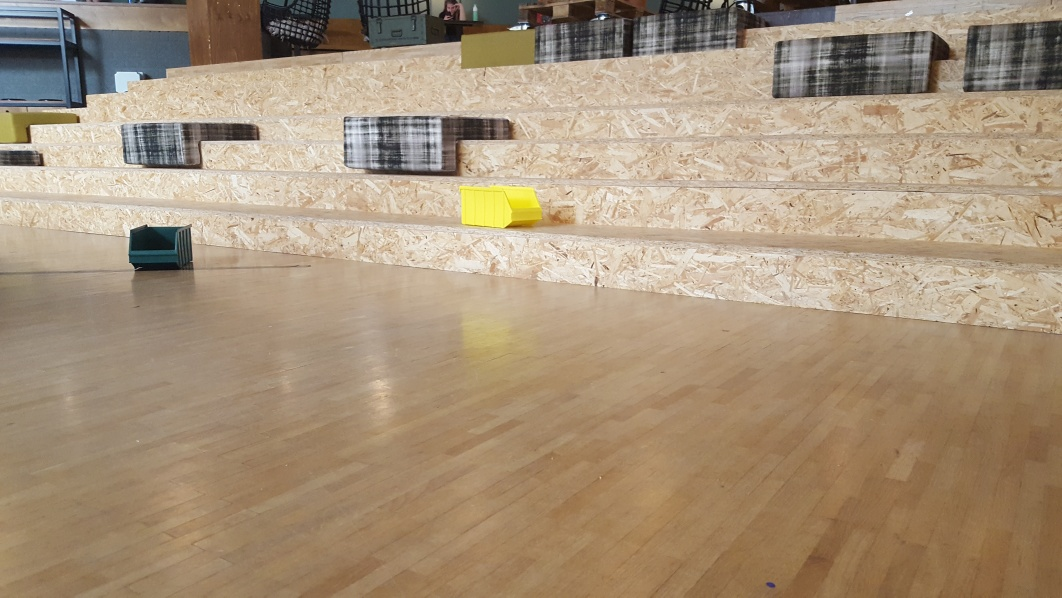tray: (456, 182, 541, 231), (127, 224, 195, 267)
